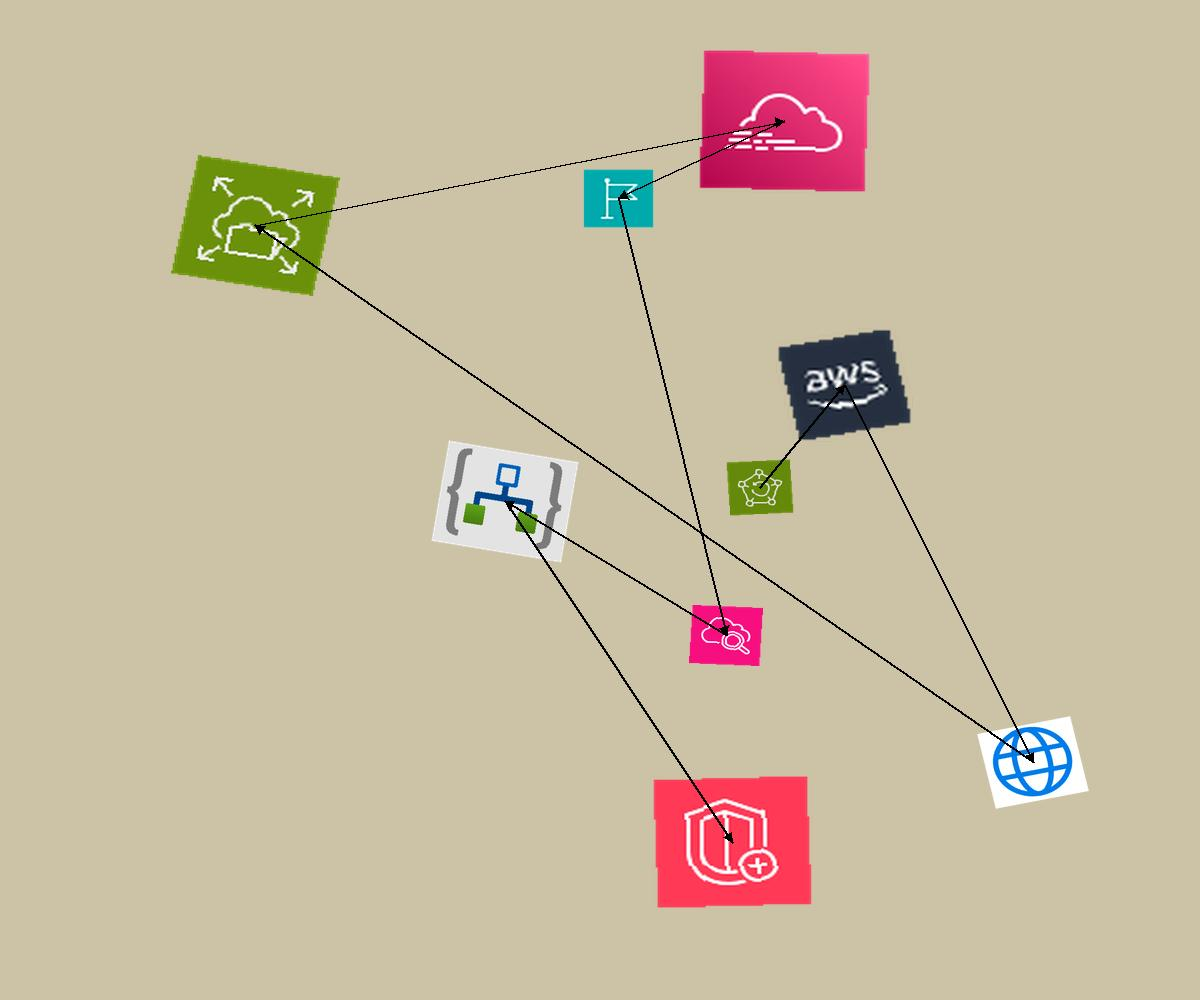AWS-Backup: (726, 459, 794, 516)
AWS-Cloud-logo: (776, 328, 913, 442)
AWS-CloudTrail: (698, 49, 871, 193)
AWS-CloudWatch: (689, 605, 763, 666)
AWS-EFS: (171, 155, 340, 296)
AWS-Region: (583, 169, 654, 228)
AWS-Shield: (652, 775, 813, 909)
Azure_http: (977, 716, 1089, 809)
Azure_integration-204-Logic-Apps: (431, 440, 579, 563)
